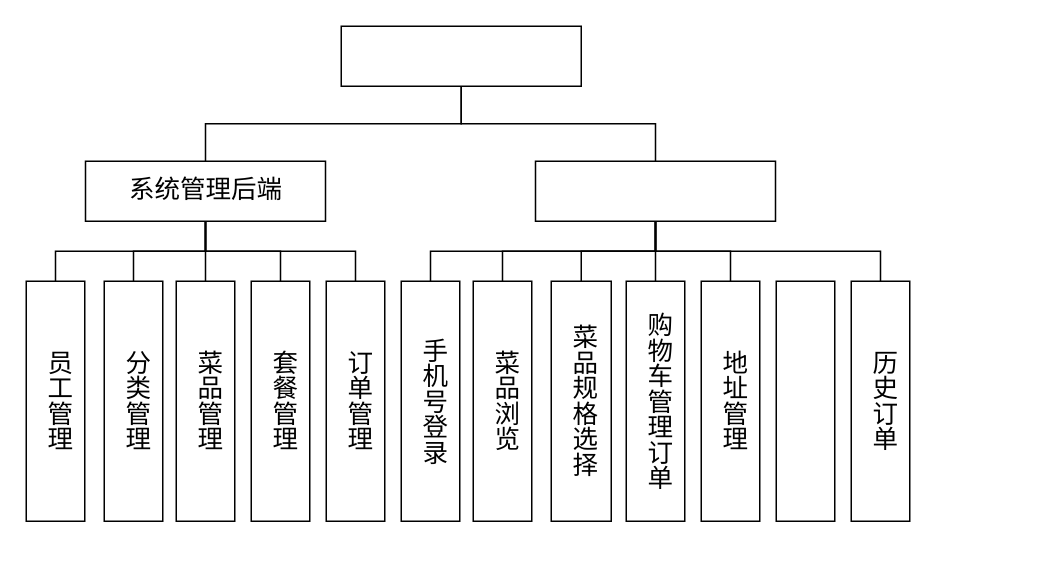
This 1056x563 diagram has some shape labels left out. Here are the shapes that lost their labels. From the top down, the box of each, then its label:
(340, 25, 581, 86): 点餐系统
(534, 160, 776, 221): 移动前端
(775, 280, 835, 521): 下单支付
